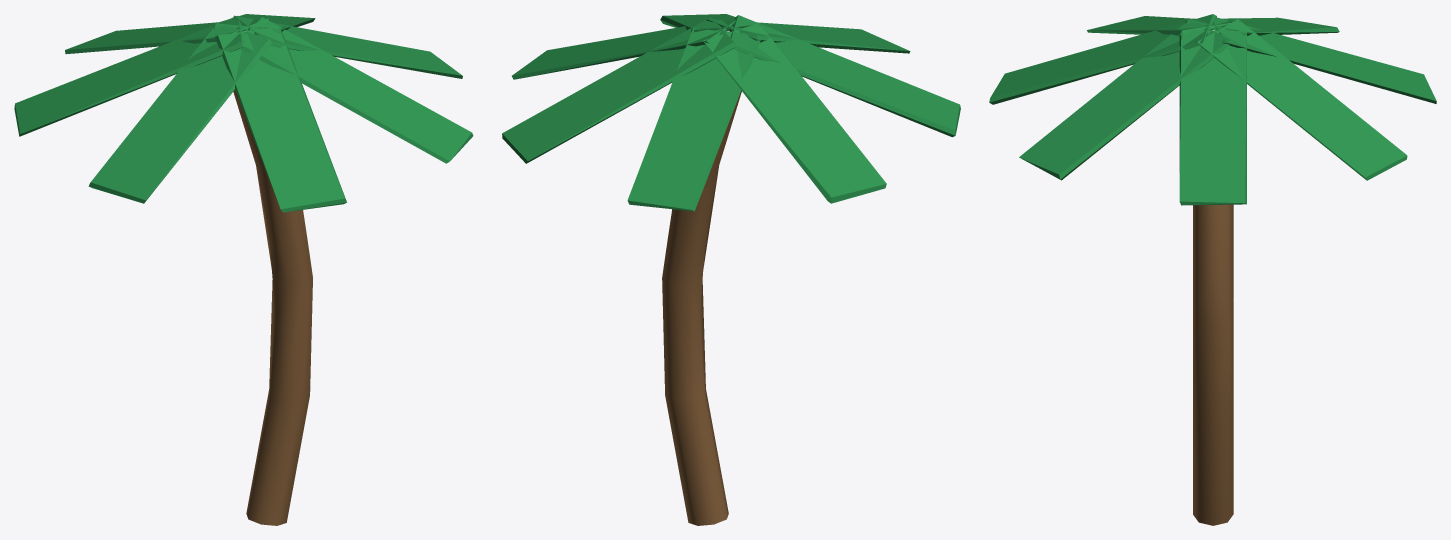
File: palm.glb
3 views of the same model, side by side, from view 1: azimuth 30°, elevation 25°; view 2: azimuth 150°, elevation 25°; view 3: azimuth 270°, elevation 25° (orthographic). The views are drawn at different scales.
Visible parts, largest first — view 1: palm; view 2: palm; view 3: palm.
Part boxes in pixels (x1,y1,x2,y2): palm: (14,14,473,525); palm: (502,14,960,525); palm: (989,14,1436,525).
Size of the model in its own units: 7.76 by 9.39 by 7.93.
